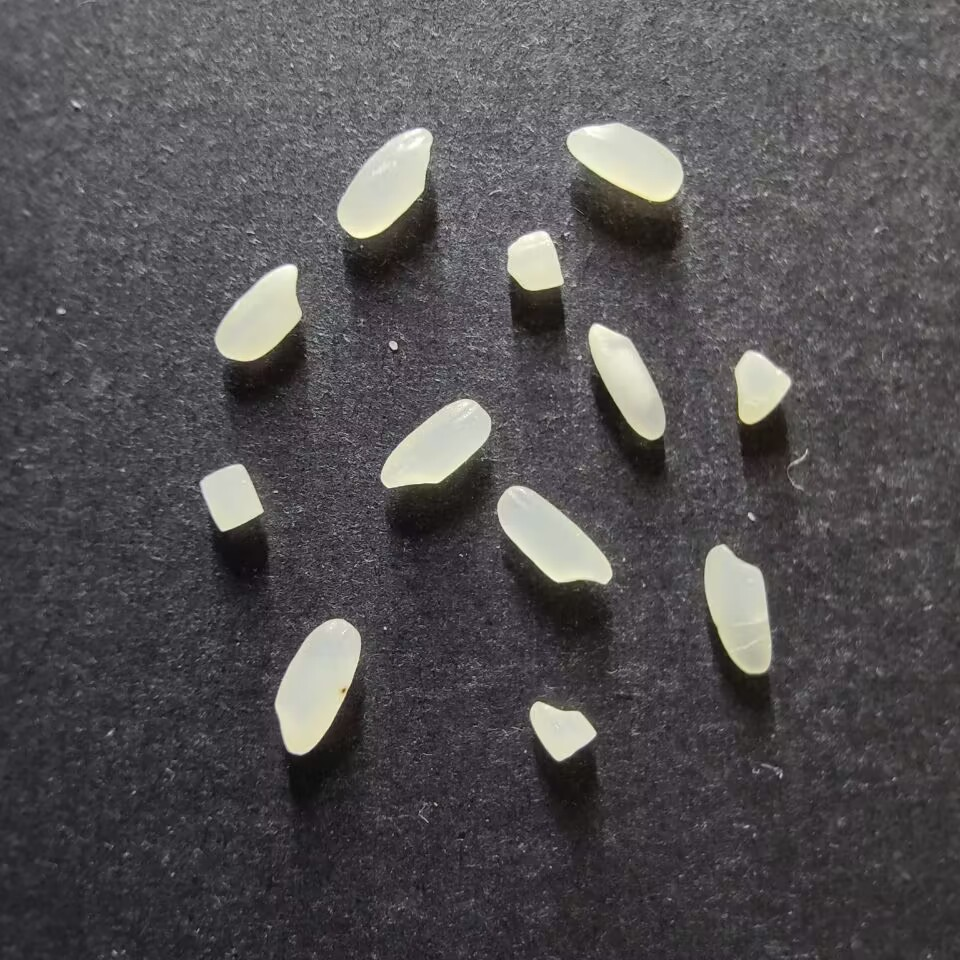broken: (198, 463, 265, 532), (733, 349, 792, 425), (527, 700, 597, 763), (504, 230, 565, 292)
rice: (273, 617, 362, 755), (496, 484, 613, 587), (335, 126, 433, 239), (379, 398, 492, 488), (587, 320, 667, 440), (566, 123, 684, 202), (703, 543, 772, 677), (214, 263, 303, 362)
